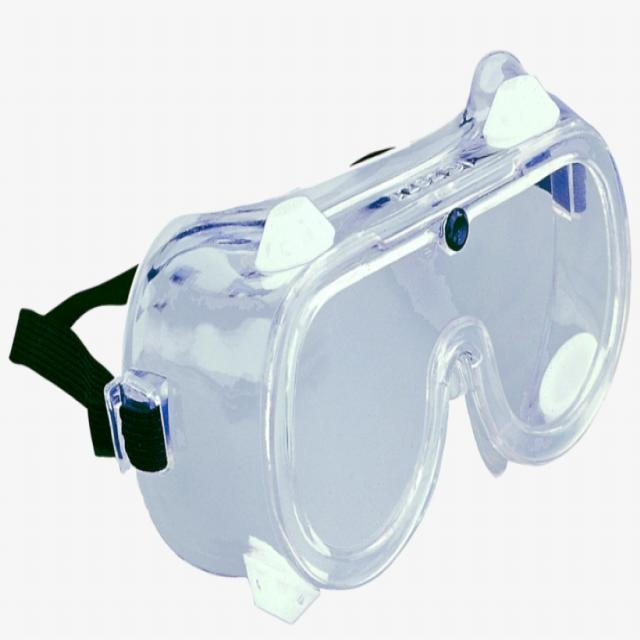Protective Glasses: (0, 36, 640, 626)
